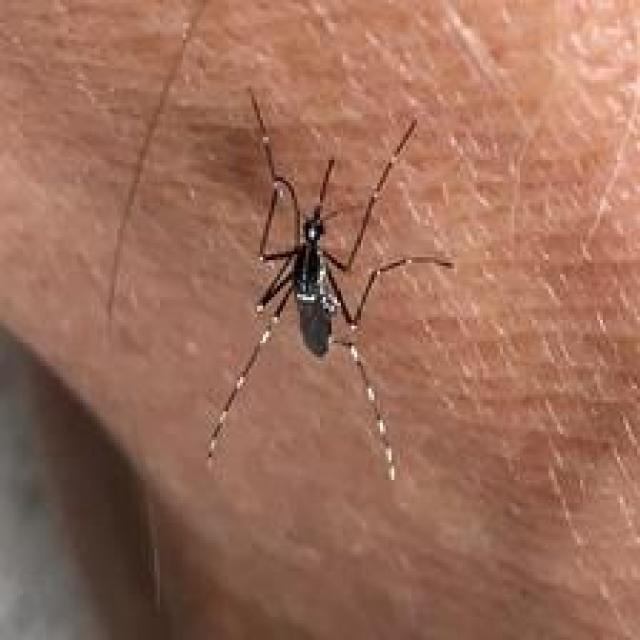Aedes albopictus: (203, 86, 454, 483)
